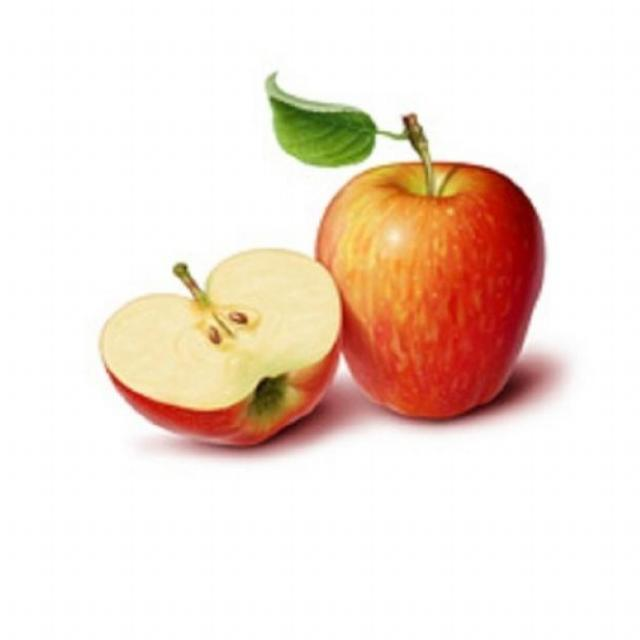apple: (306, 158, 548, 438)
